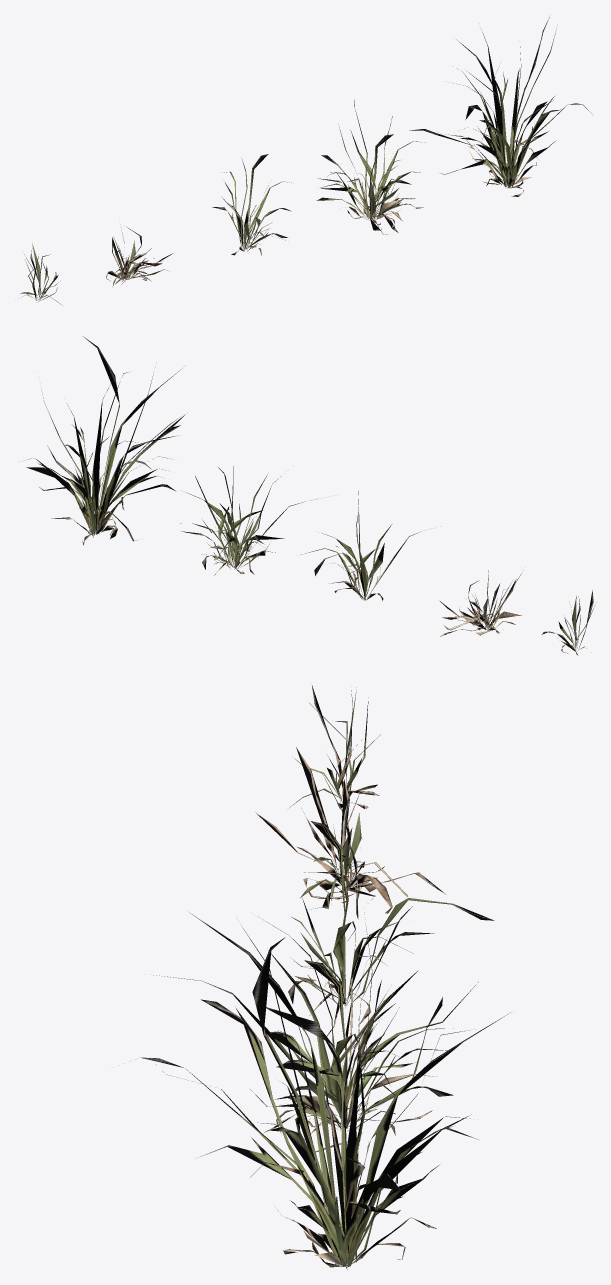
File: grass_medium_02.glb
3 renders of one model, top to bottom at view 1: azimuth 30°, elevation 25°; view 2: azimuth 150°, elevation 25°; view 3: azimuth 270°, elevation 25°, orthographic. The views are drawn at different scales.
Parts seen in each view (by area): view 1: grass_medium_02_a; view 2: grass_medium_02_a; view 3: grass_medium_02_a.
Boxes of the visible parts, x1=… form: grass_medium_02_a: x1=18, y1=17, x2=593, y2=304; grass_medium_02_a: x1=26, y1=336, x2=596, y2=654; grass_medium_02_a: x1=141, y1=685, x2=510, y2=1269.
Size of the model in its own units: 1.29 by 0.4039 by 0.4319.
Materials: 1 (1 with a texture image).
